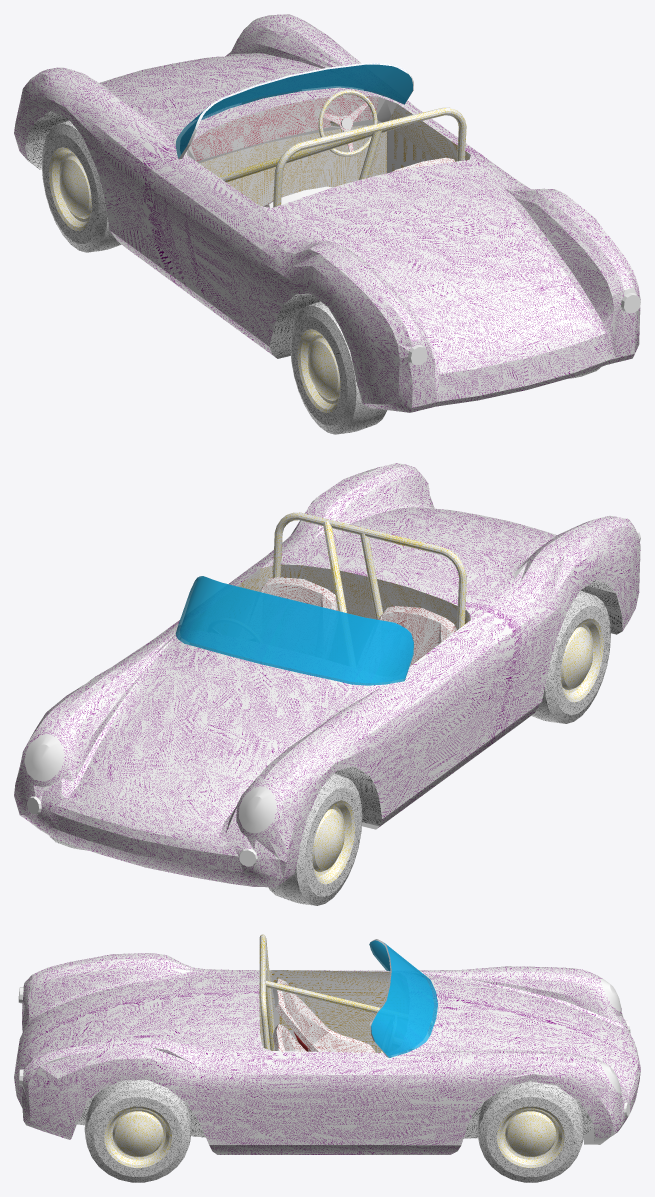
File: girl_toy_car.dae
The picture shows the model from 3 angles, top to bottom: view 1: azimuth 30°, elevation 25°; view 2: azimuth 150°, elevation 25°; view 3: azimuth 270°, elevation 25°; orthographic projection. The views are drawn at different scales.
Parts seen in each view (by area): view 1: Porche_Spe (×15); view 2: Porche_Spe (×17); view 3: Porche_Spe (×14).
Boxes of the visible parts, x1,y1,x2,y2 form: Porche_Spe (×15): (14,14,640,434); Porche_Spe (×17): (14,463,640,905); Porche_Spe (×14): (14,934,640,1182).
Bounding box in the file's own units: 5.36 × 13.44 × 4.05.
10 materials, 1 textured.
